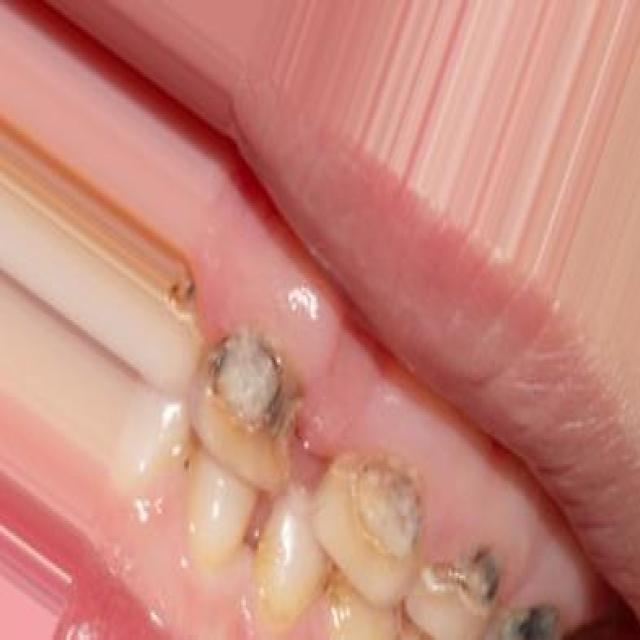caries: (204, 318, 306, 476), (340, 436, 427, 567), (423, 508, 504, 624), (499, 571, 561, 640)
